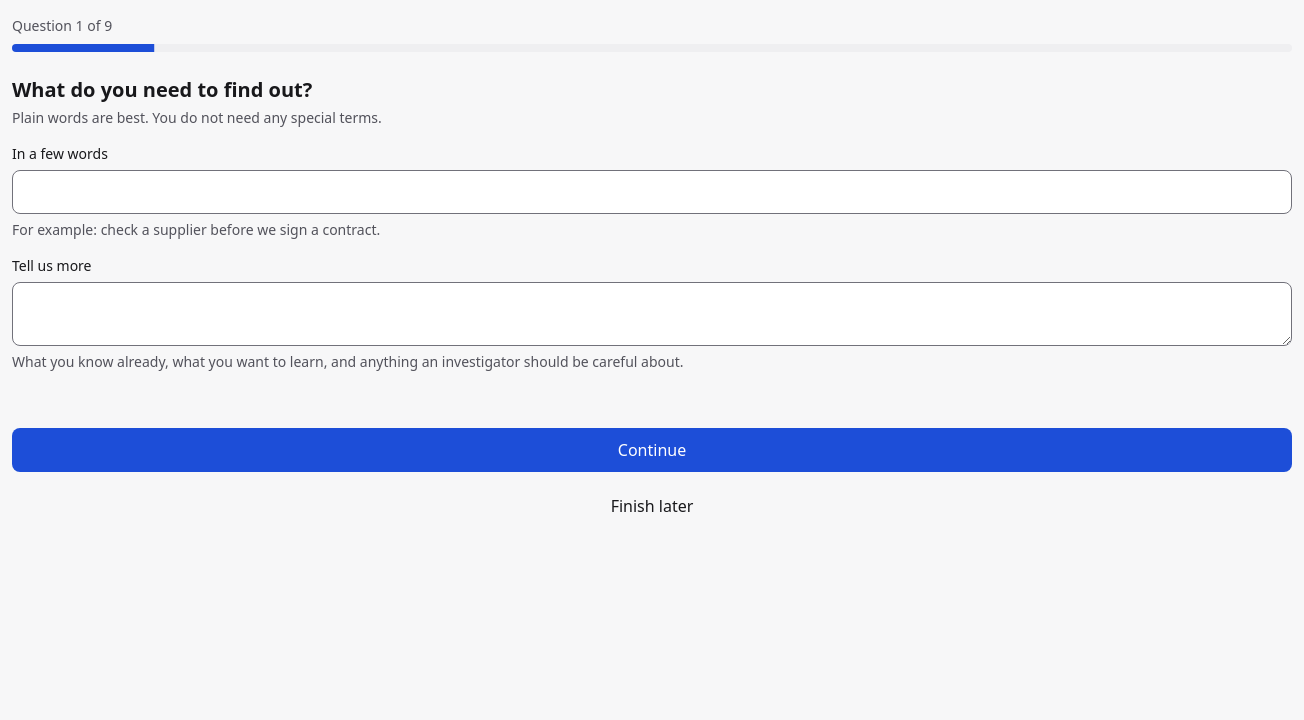
Test: mission intake › cancelling the draft (T-154) › offers nothing to cancel until there is a draft
Expected: the button "Cancel this mission" is not shown
In the field labelled "In a few words": (652, 192) [12,170,1292,214], type "A"
Wait 800 ms
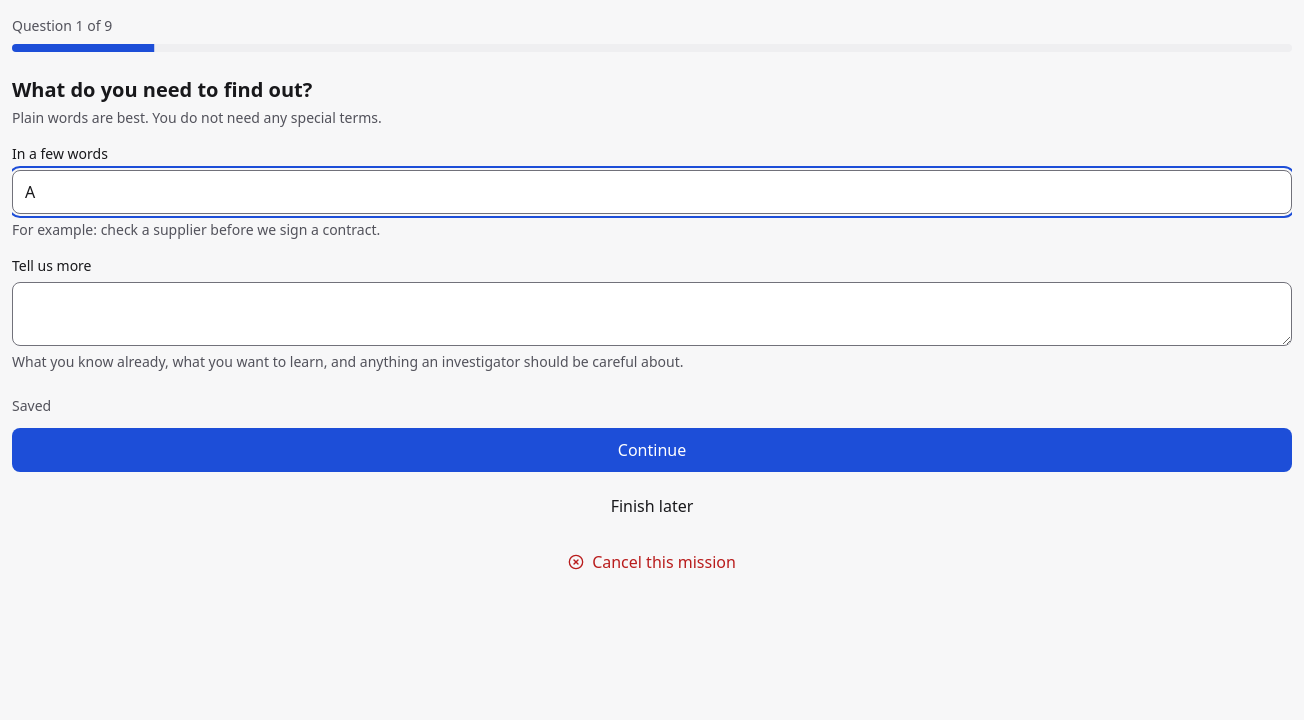
Now the button "Cancel this mission" is shown, box [12,540,1292,584]
